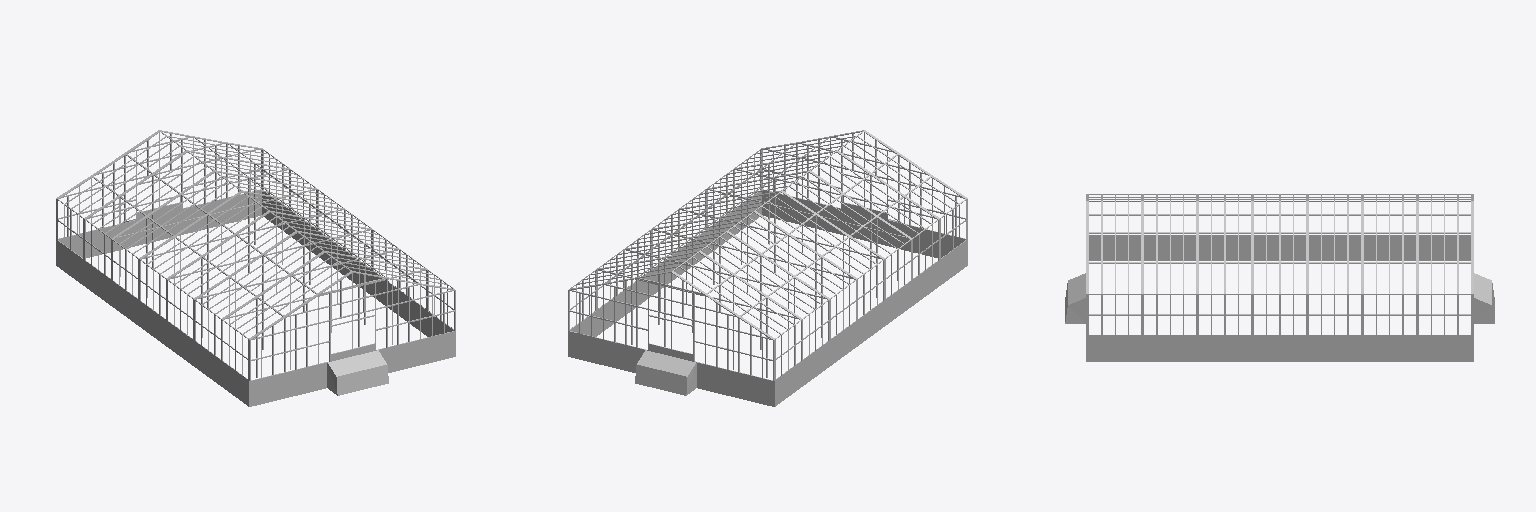
Rendered from glasshouse big frame.obj.
3 renders of one model, left to right at view 1: azimuth 30°, elevation 25°; view 2: azimuth 150°, elevation 25°; view 3: azimuth 270°, elevation 25°, orthographic.
Parts seen in each view (by area): view 1: glasshouse_big_frame; view 2: glasshouse_big_frame; view 3: glasshouse_big_frame.
Boxes of the visible parts, x1=… form: glasshouse_big_frame: x1=56, y1=130, x2=455, y2=406; glasshouse_big_frame: x1=568, y1=130, x2=967, y2=406; glasshouse_big_frame: x1=1065, y1=194, x2=1494, y2=361.
Size of the model in its own units: 12.04 by 6.13 by 21.66.